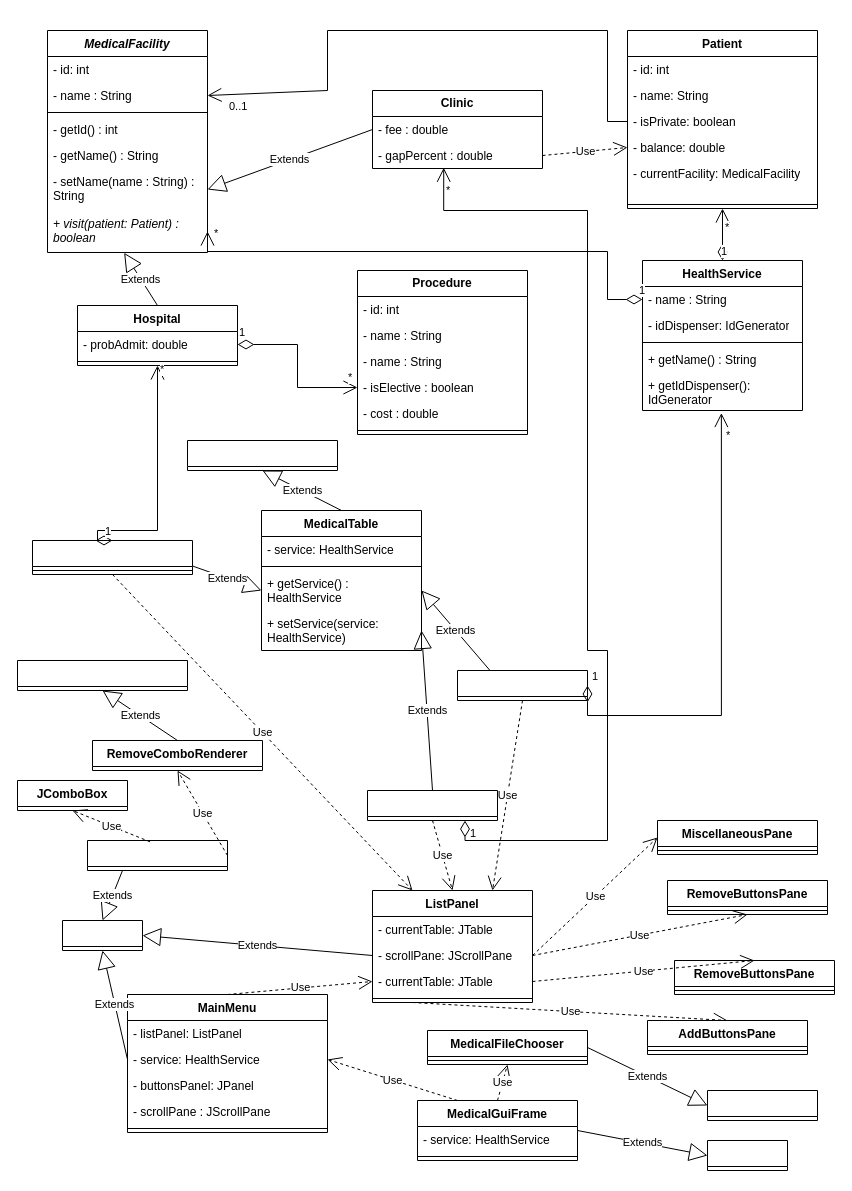
Some shapes in this 852 by 1191 pixel diagram are drawn without their labels. Here are the shapes that lost their labels. From the top down, the centre of each, then its label:
At (262,455): "AbstractTableModel".
At (112,557): "HospitalTableModel".
At (102,675): "DefaultListCellRenderer".
At (522,685): "PatientTableModel".
At (432,805): "ClinicTableModel".
At (157,855): "SelectObjectDialog".
At (102,935): "JPanel".
At (762,1105): "JFileChooser".
At (747,1155): "JFrame".
